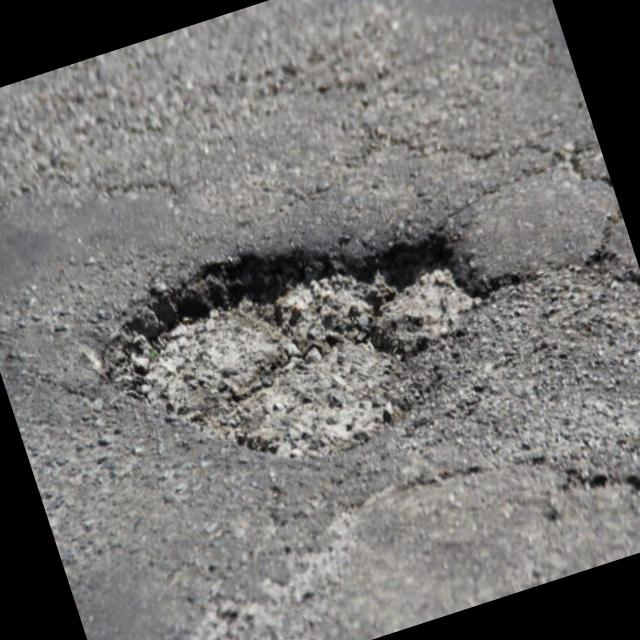Potholes: (70, 166, 538, 536)
